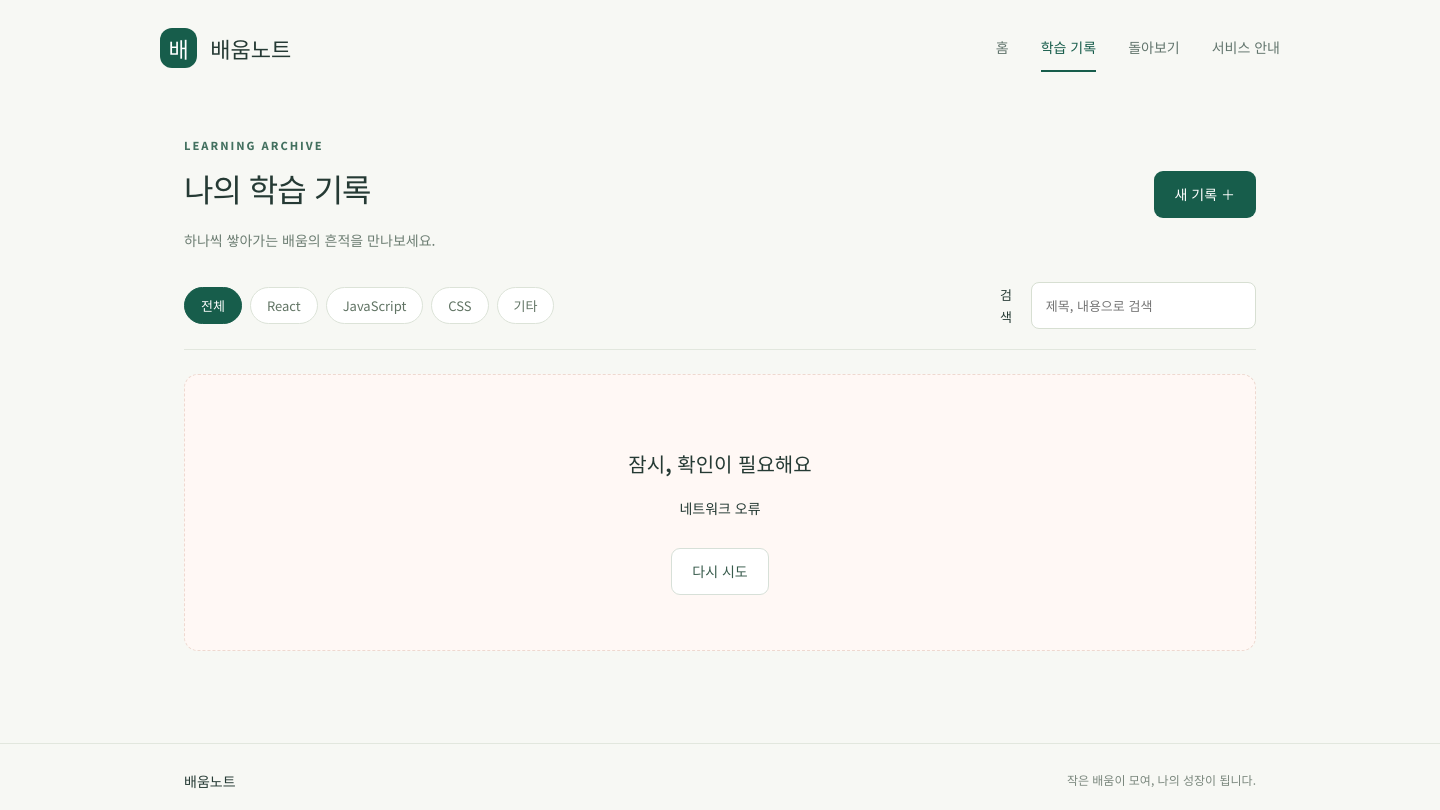
Test case: 학습 기록 사용자 흐름 › 조회 실패 후 재시도하고 빈 상태를 표시한다
Check: the text "네트워크 오류" is shown, box [679,498,761,518]
Click the button "다시 시도" at (720, 571), box [671,548,769,595]
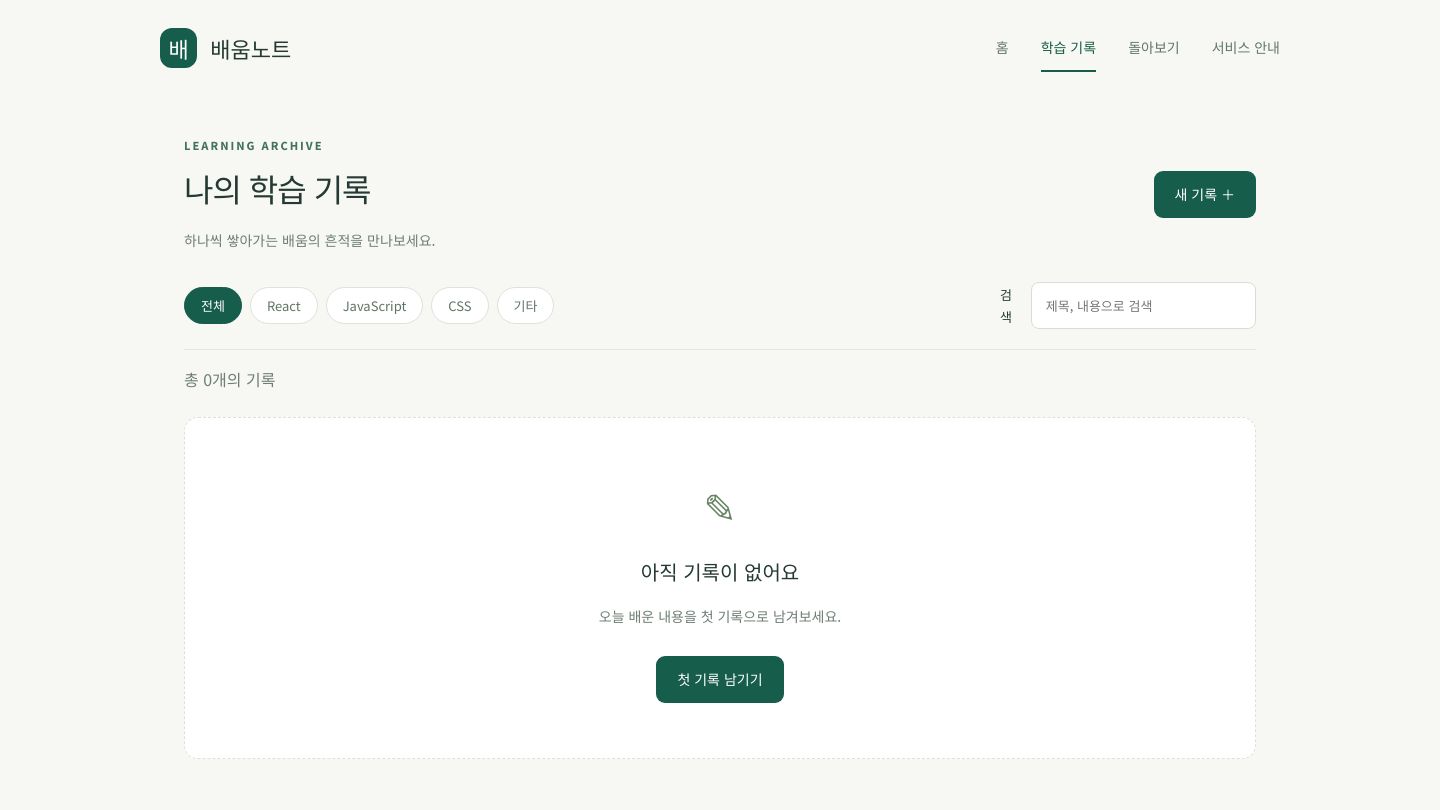
Check: the heading "아직 기록이 없어요" is shown, box [641,558,799,586]
